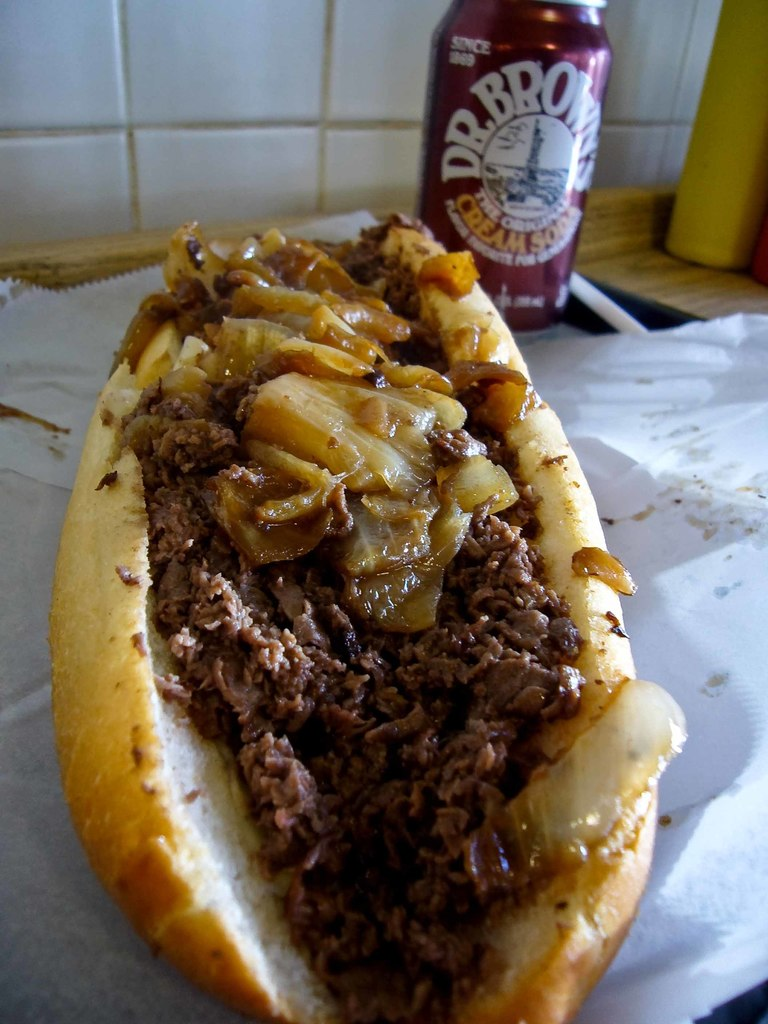sandwich: (50, 209, 689, 1023)
